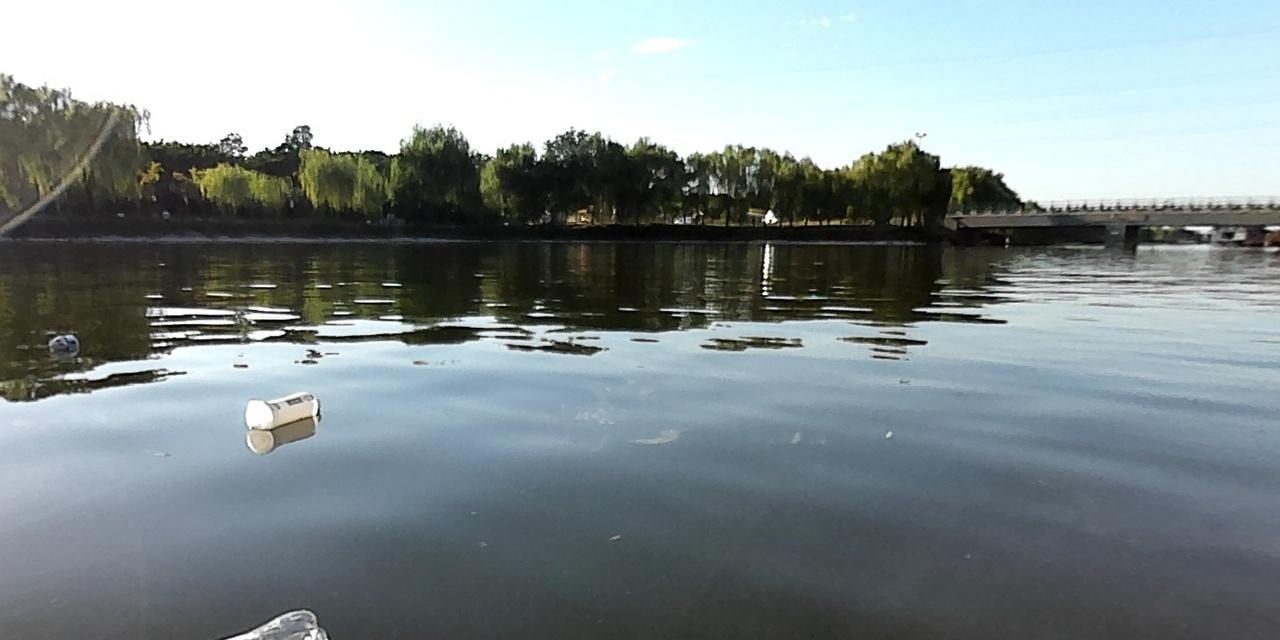bottle: (241, 386, 328, 429), (45, 330, 77, 352)
